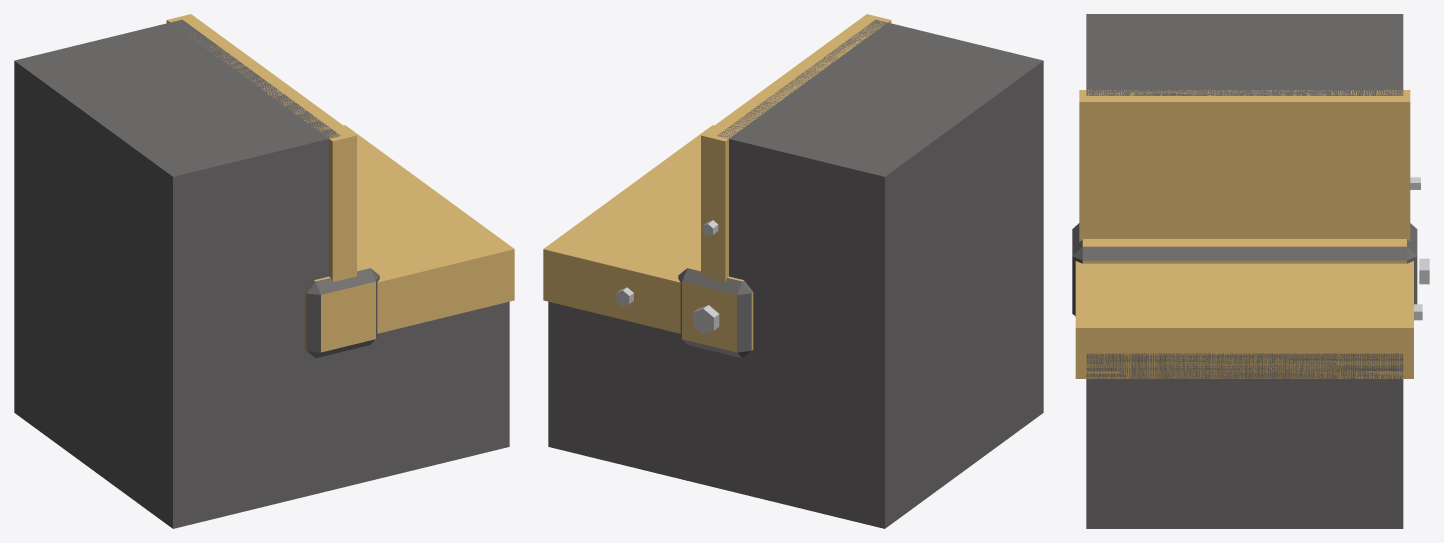
File: CO_Tile_11.fbx
The picture shows the model from 3 angles, left to right: view 1: azimuth 30°, elevation 25°; view 2: azimuth 150°, elevation 25°; view 3: azimuth 270°, elevation 25°; orthographic projection.
Parts seen in each view (by area): view 1: CO_Tile_11; view 2: CO_Tile_11; view 3: CO_Tile_11.
Part boxes in pixels (<box>): CO_Tile_11: <box>14,14,514,528</box>; CO_Tile_11: <box>543,14,1043,528</box>; CO_Tile_11: <box>1072,14,1429,528</box>.
Size of the model in its own units: 1.1 by 1.1 by 1.02.
